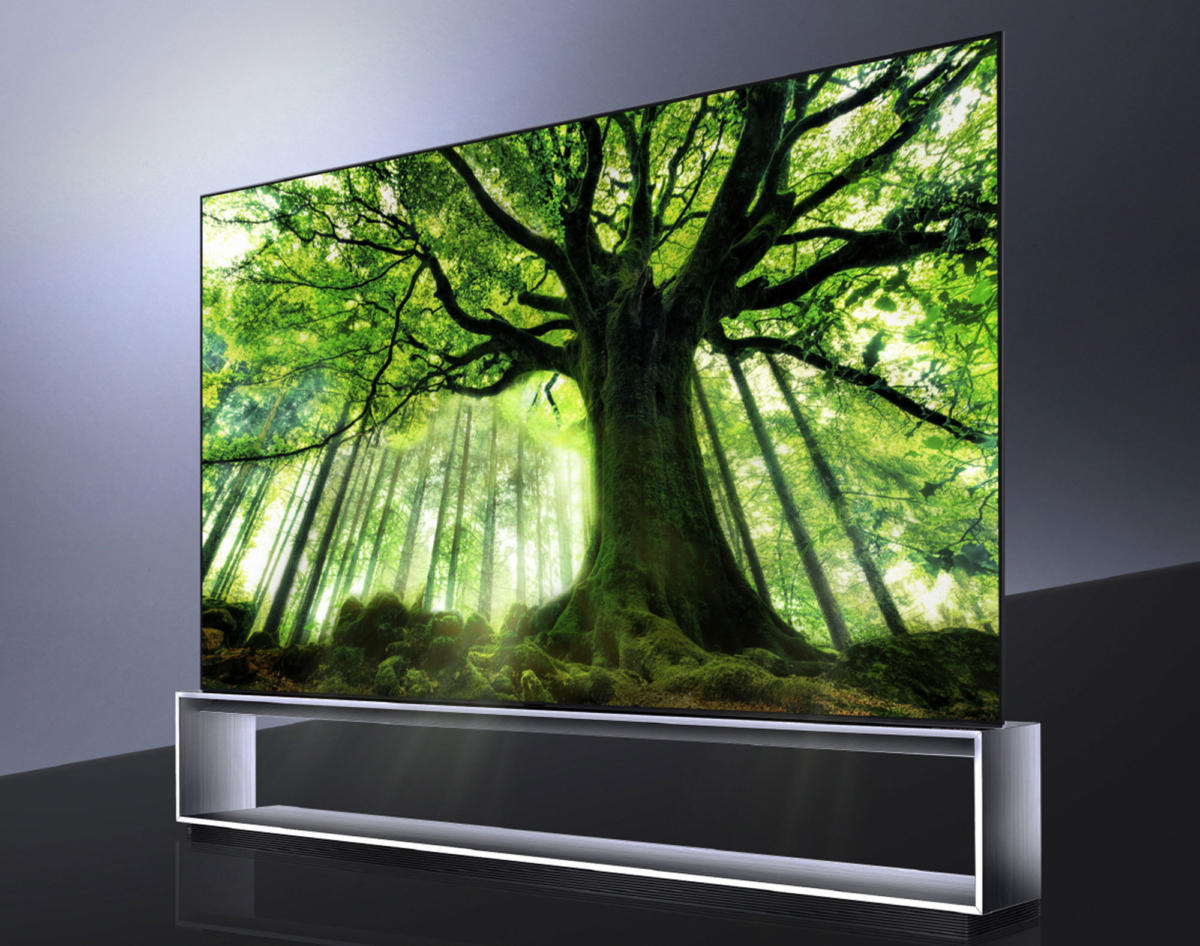tv: (159, 23, 1029, 738)
